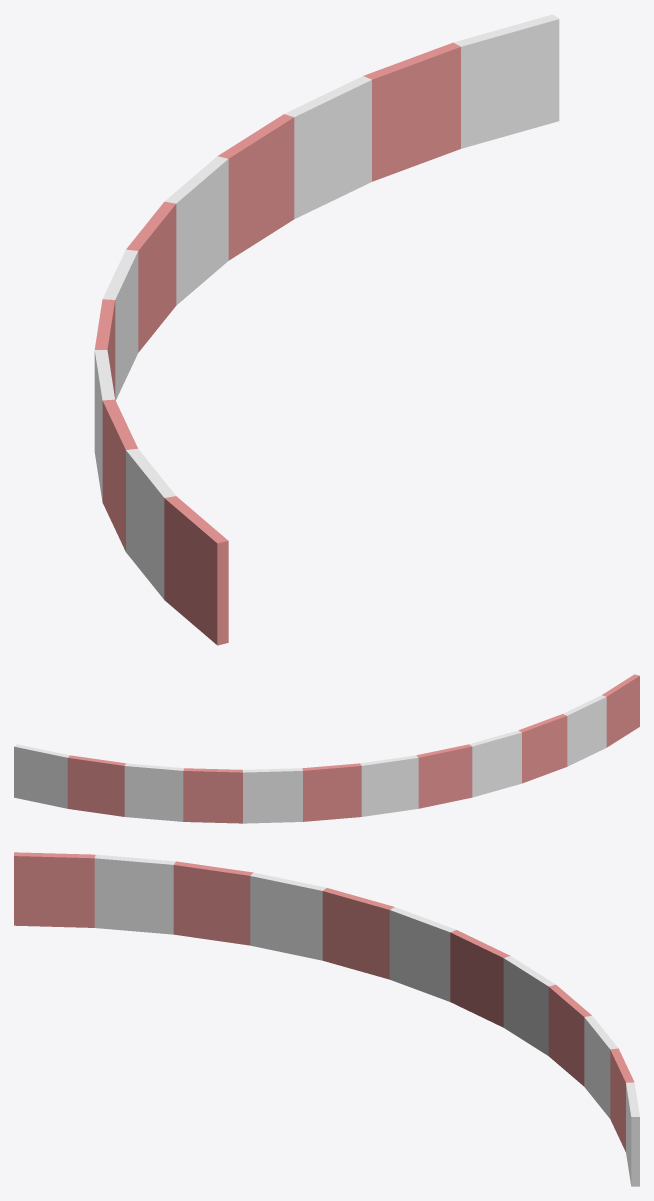
File: roadCornerLargerWall.glb
The picture shows the model from 3 angles, top to bottom: view 1: azimuth 30°, elevation 25°; view 2: azimuth 150°, elevation 25°; view 3: azimuth 270°, elevation 25°; orthographic projection. The views are drawn at different scales.
Parts seen in each view (by area): view 1: roadCornerLargerWall(Clone); view 2: roadCornerLargerWall(Clone); view 3: roadCornerLargerWall(Clone).
Boxes of the visible parts, x1,y1,x2,y2 form: roadCornerLargerWall(Clone): [94, 14, 559, 645]; roadCornerLargerWall(Clone): [14, 674, 639, 823]; roadCornerLargerWall(Clone): [14, 852, 639, 1186].
Bounding box in the file's own units: 3.58 × 0.44 × 3.58.
